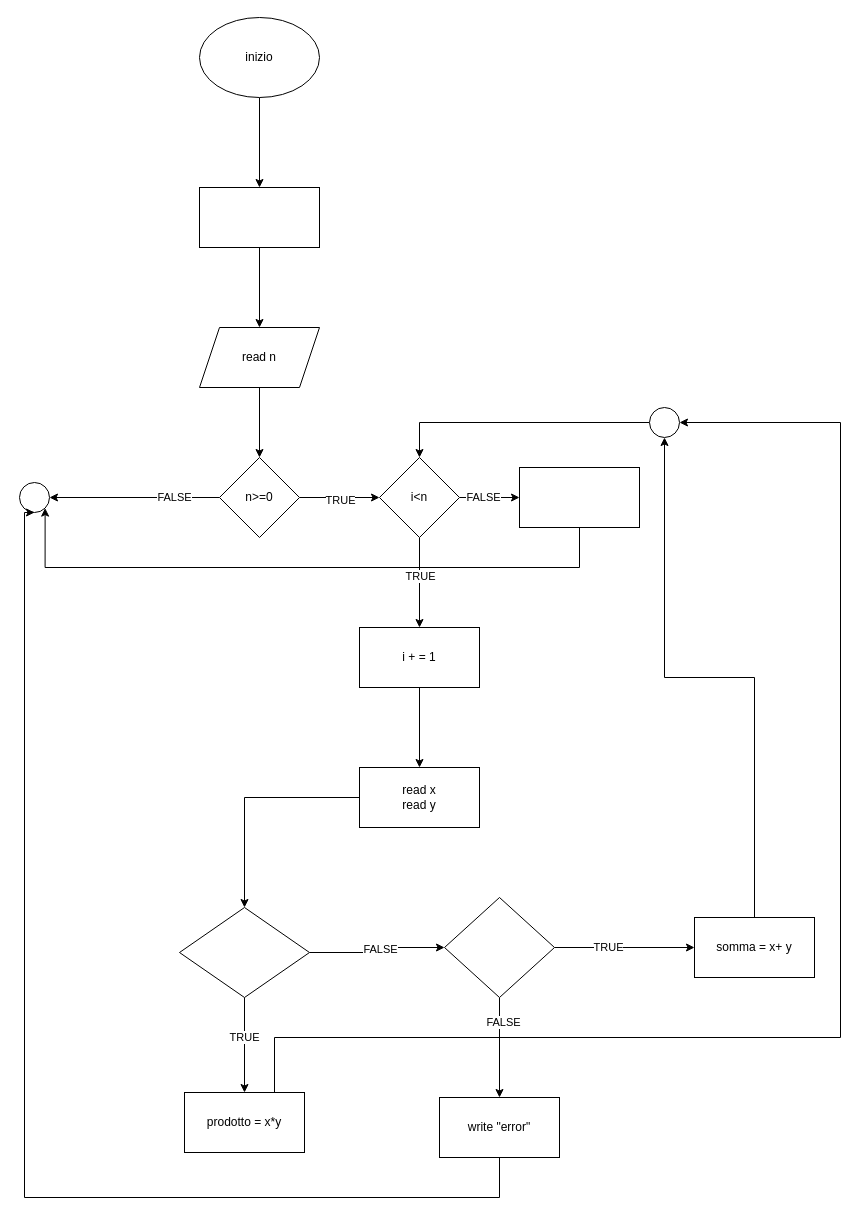
Some shapes in this 866 by 1223 pixel diagram are drawn without their labels. Each missing label, with the centre of its shape:
"somma = 0 prodotto = 0" belongs at [259,217].
"write sum write prodotto" belongs at [579,497].
"x<0 or y<0" belongs at [499,947].
"x>0 and y>0" belongs at [244,952].
